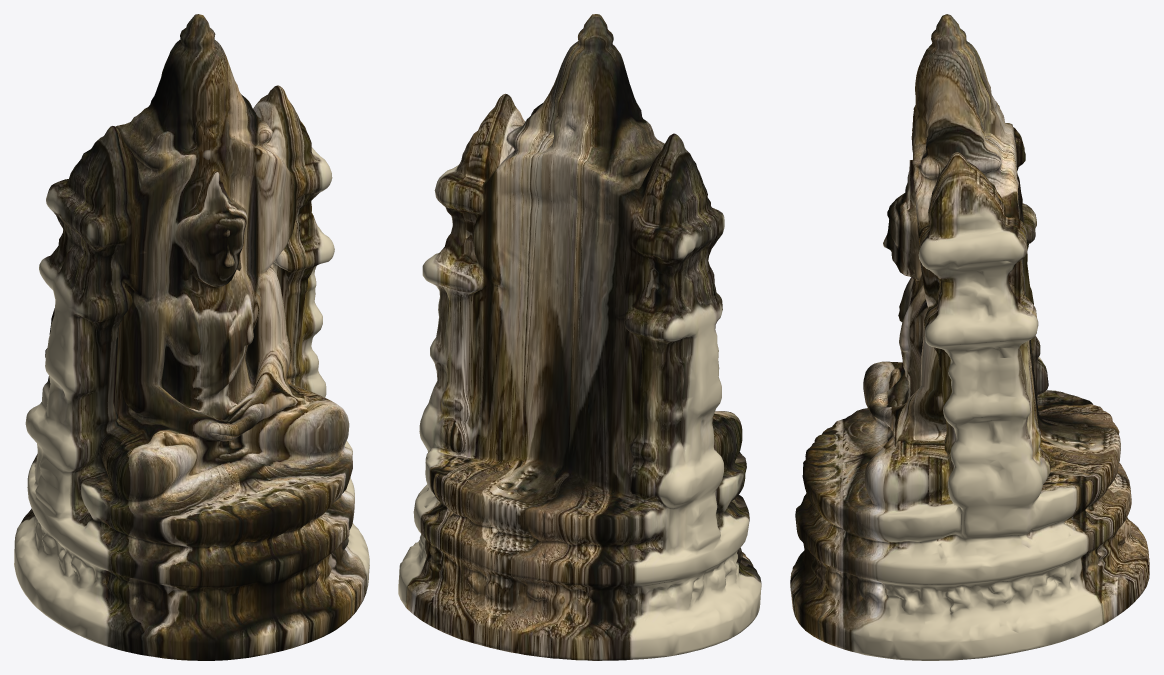
Rendered from buddha_statue.glb.
3 renders of one model, left to right at view 1: azimuth 30°, elevation 25°; view 2: azimuth 150°, elevation 25°; view 3: azimuth 270°, elevation 25°, orthographic.
Visible parts, largest first — view 1: geometry_0; view 2: geometry_0; view 3: geometry_0.
Boxes of the visible parts, bbox=[...] form: geometry_0: bbox=[14, 14, 369, 660]; geometry_0: bbox=[398, 14, 761, 660]; geometry_0: bbox=[790, 14, 1149, 660].
Size of the model in its own units: 1.11 by 2.01 by 1.12.
Materials: 1 (1 with a texture image).
